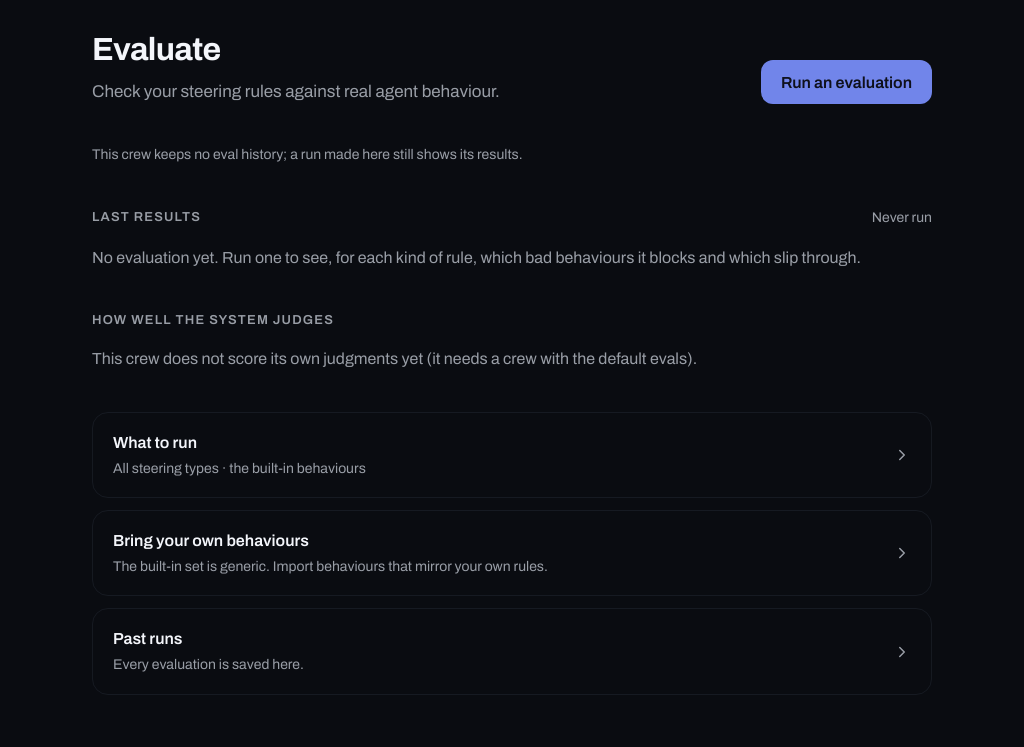
Test: Evals — the run › GAP rows expand to nearest_rules with similarity values; the other verdicts carry no toggle
The width and height of the screenshot is (1024, 747).
Click the button with test id "testing-evals-run" at [846, 82], box [761, 60, 932, 104]
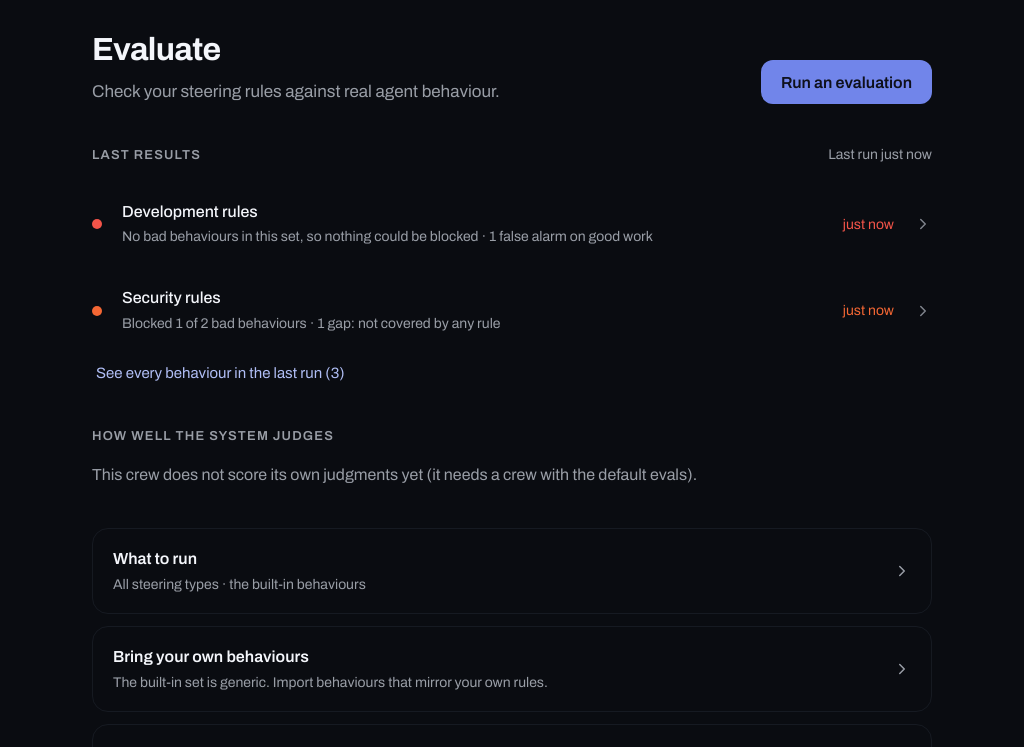
Click the button with test id "evaluate-all-behaviours" at [220, 373], box [92, 360, 349, 387]
(page scrolled)
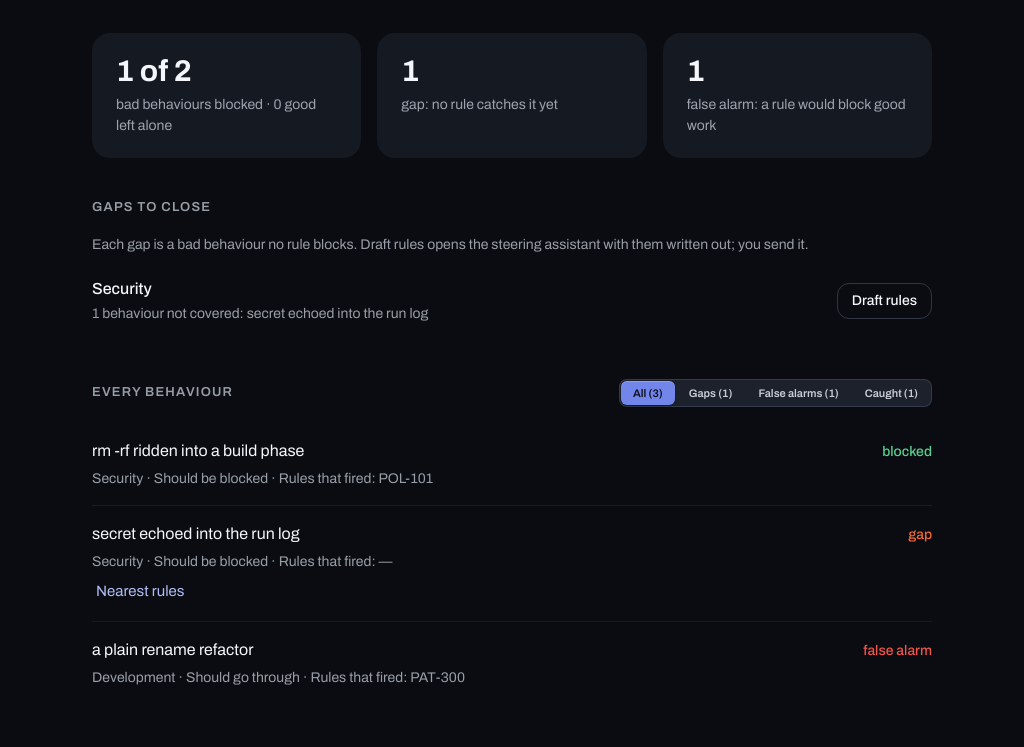
Expected: the list with test id "testing-evals-table" is shown, [92, 423, 932, 704]
Expected: the number of buttons with test id "testing-evals-gap-toggle" is 1
Click the button with test id "testing-evals-gap-toggle" at [140, 591], box [92, 578, 188, 605]
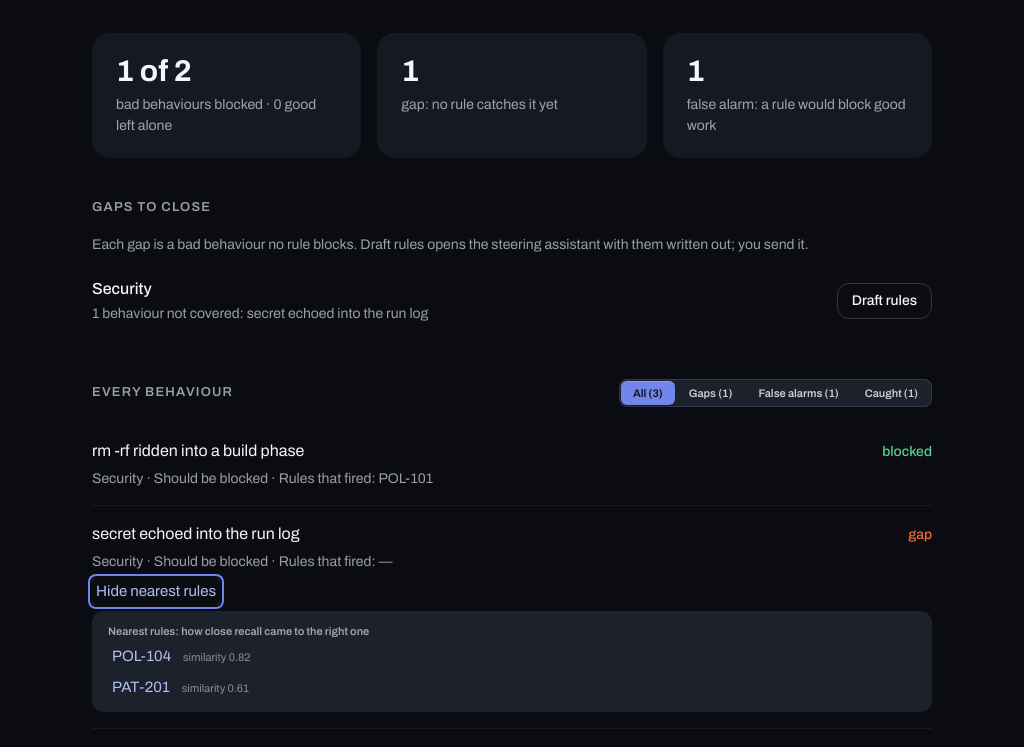
Expected: the number of elements with test id "testing-evals-nearest-rule" is 2, [112, 648, 251, 664]; [112, 679, 249, 695]
Expected: the element with test id "testing-evals-nearest-rule" shows "POL-104", [108, 643, 175, 670]
Expected: the element with test id "testing-evals-nearest-rule" shows "similarity 0.82", [112, 648, 251, 664]
Toggling again collapses.
Click the button with test id "testing-evals-gap-toggle" at [156, 591], box [92, 578, 220, 605]
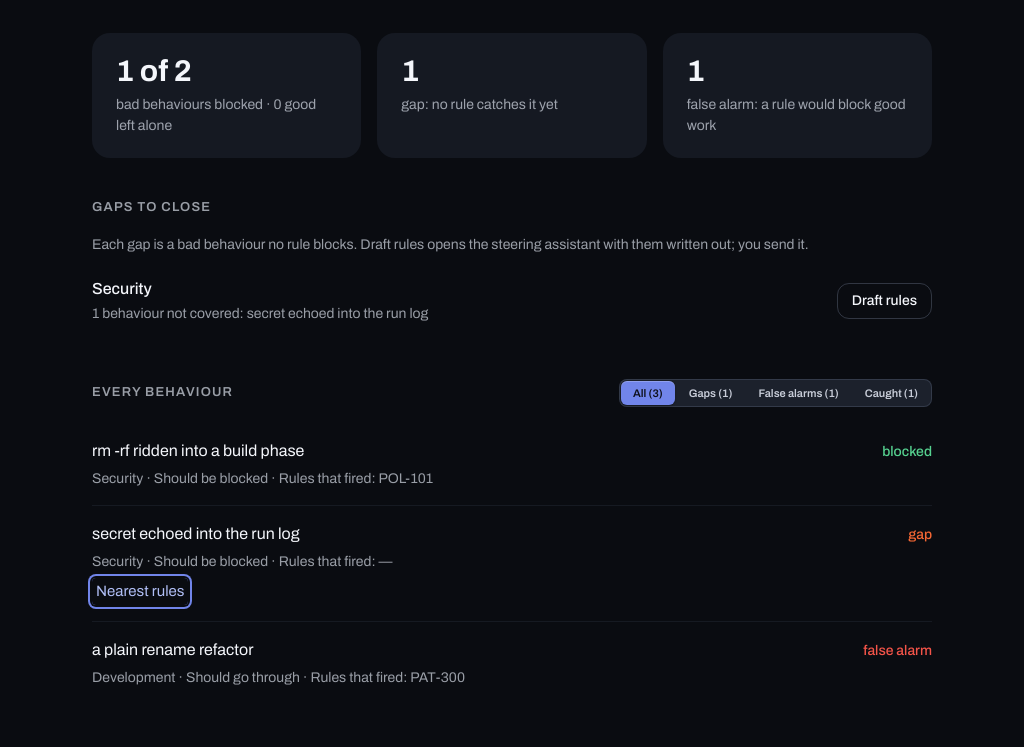
Expected: the element with test id "testing-evals-nearest" is gone
